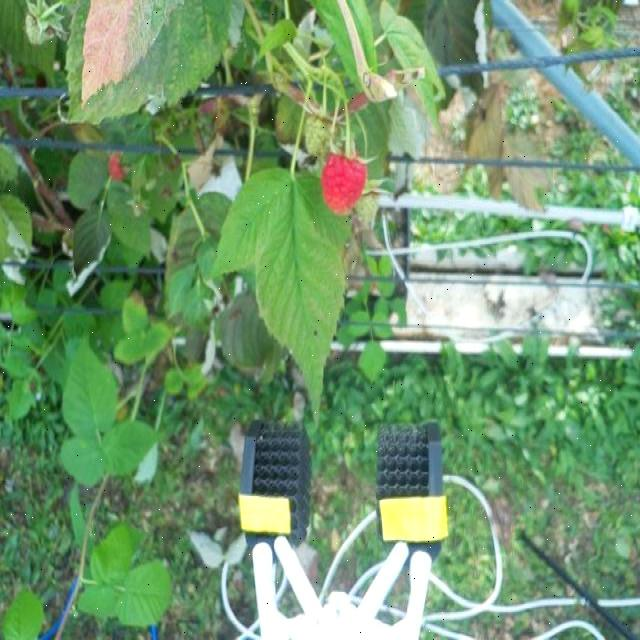Riped berries: (318, 148, 368, 215), (106, 149, 130, 183)
